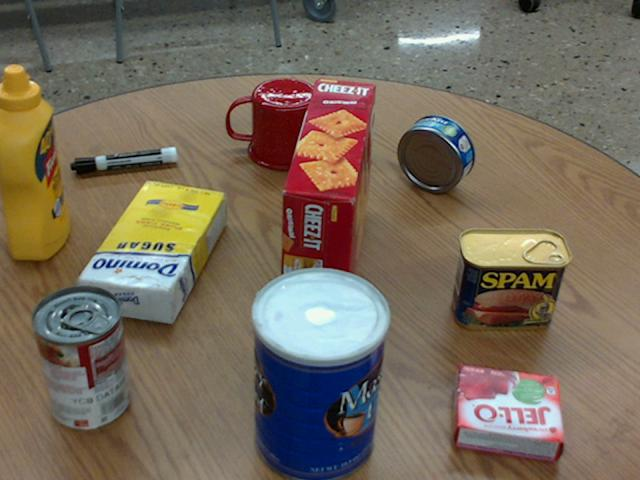cracker_box: (279, 79, 375, 335)
gelatin_box: (453, 364, 563, 462)
large_marker: (71, 146, 176, 172)
master_chef_can: (252, 268, 389, 479)
mug: (227, 78, 321, 170)
mustard_bottle: (0, 65, 68, 258)
potted_meat_can: (451, 227, 570, 329)
sugar_box: (76, 179, 225, 324)
tomato_soup_can: (30, 285, 128, 428)
tuna_fish_can: (396, 115, 473, 192)
